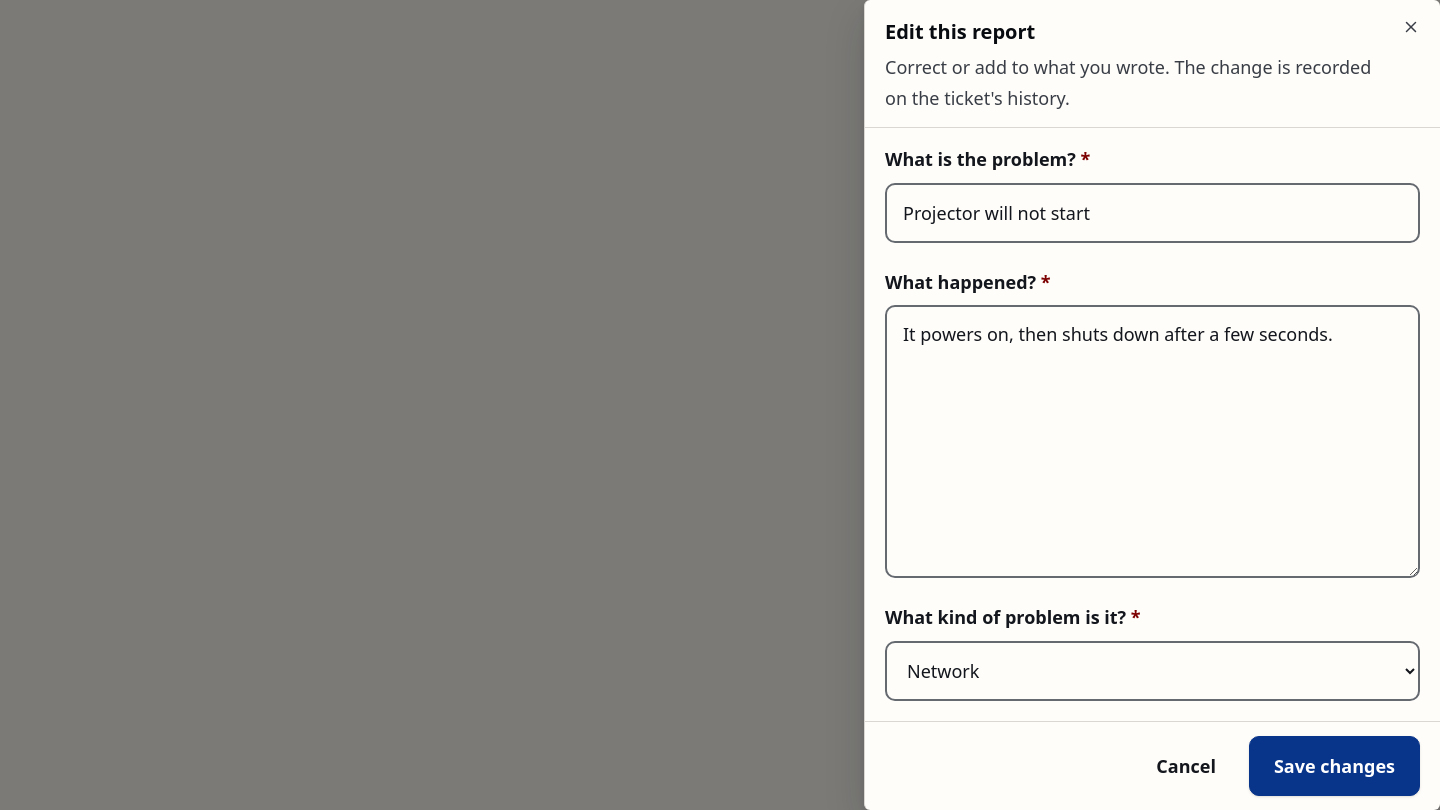
Test: TicketEditDrawer — the "Other" description › shows a refusal for a field it is not showing, and moves focus to it
Click the button "Save changes" at (1334, 766), box [1249,736,1420,796]
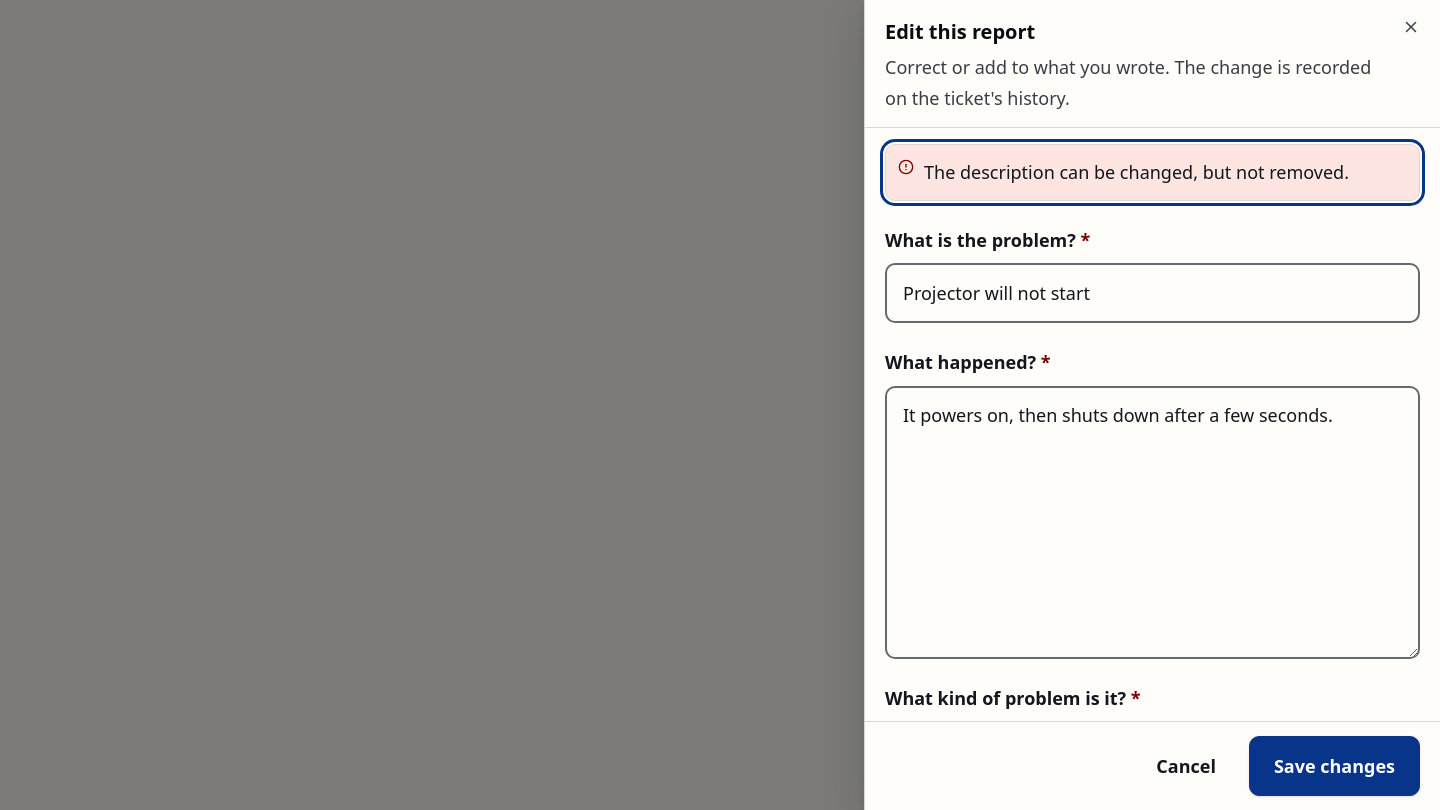
Now the message reads "The description can be changed, but not removed.", box [924,160,1349,184]
